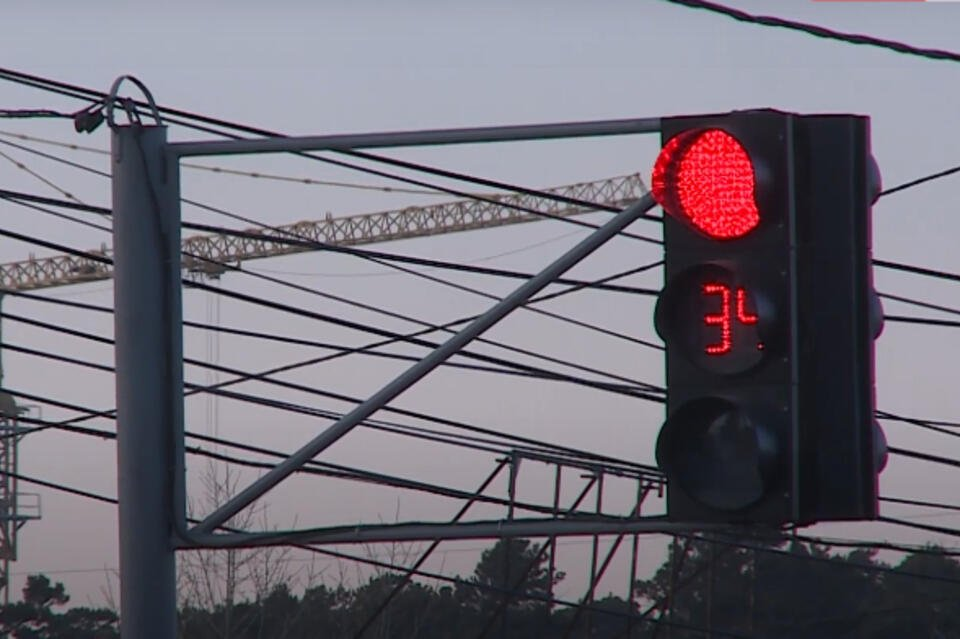tl: (653, 120, 898, 527)
